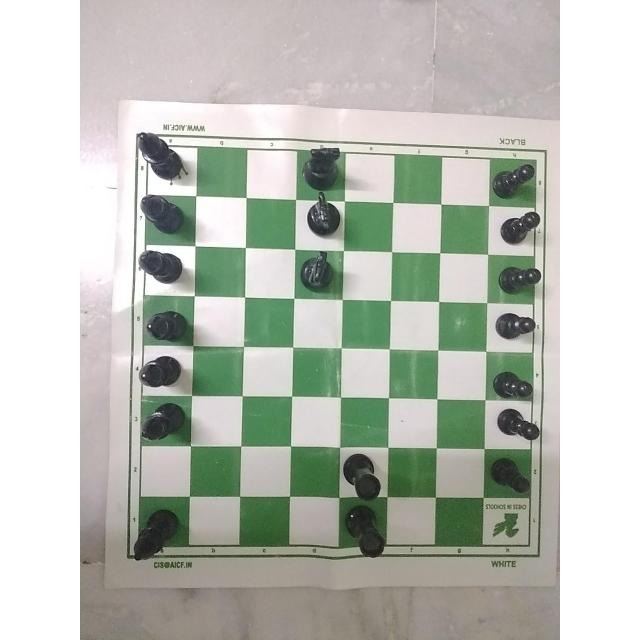black-bishop: (127, 505, 189, 569), (120, 305, 203, 347), (135, 399, 195, 449), (131, 351, 203, 390), (136, 249, 194, 293), (140, 127, 190, 177), (136, 190, 191, 232)
black-knight: (294, 141, 345, 193), (298, 248, 350, 289), (293, 196, 352, 229)
black-pawn: (488, 459, 538, 503), (490, 256, 548, 293), (489, 306, 544, 345), (493, 406, 547, 442), (486, 364, 540, 399), (499, 206, 546, 243), (495, 161, 534, 205)
black-rook: (341, 503, 397, 564), (334, 442, 384, 497)
